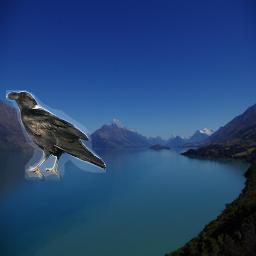Crow: (6, 90, 106, 181)
